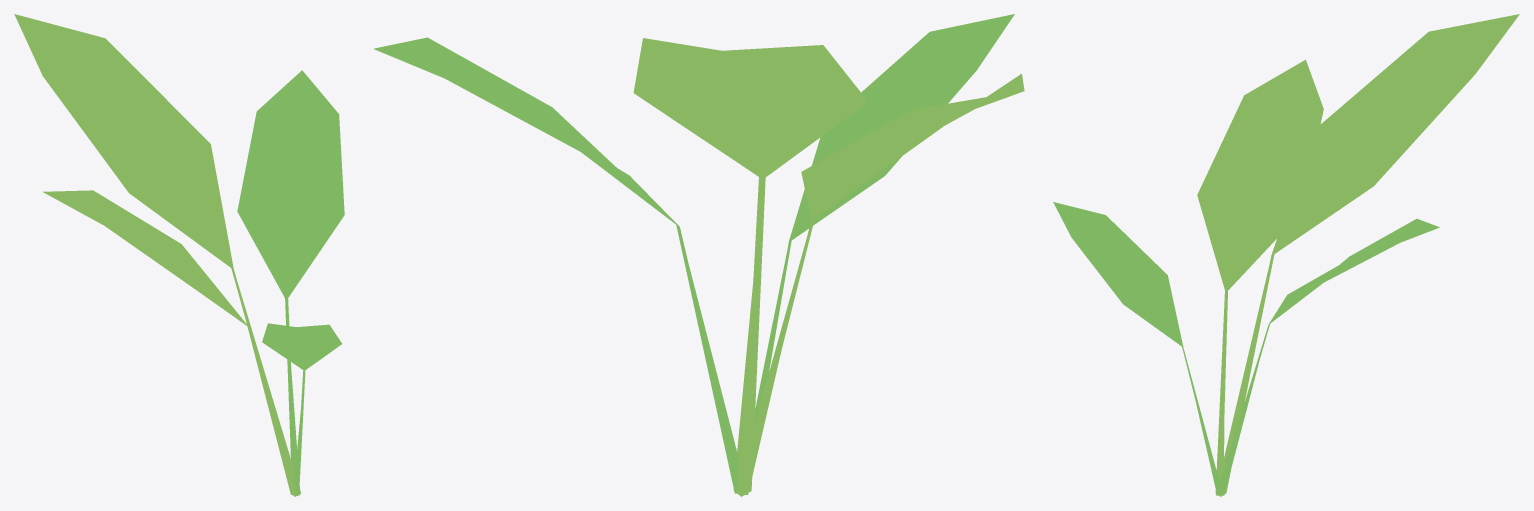
The model's file is Plant_j_TwoS_09.fbx.
3 renders of one model, left to right at view 1: azimuth 30°, elevation 25°; view 2: azimuth 150°, elevation 25°; view 3: azimuth 270°, elevation 25°, orthographic. The views are drawn at different scales.
Parts seen in each view (by area): view 1: Plant_j_TwoS_09; view 2: Plant_j_TwoS_09; view 3: Plant_j_TwoS_09.
Boxes of the visible parts, bbox=[...] form: Plant_j_TwoS_09: bbox=[14, 14, 344, 496]; Plant_j_TwoS_09: bbox=[374, 14, 1024, 496]; Plant_j_TwoS_09: bbox=[1053, 14, 1519, 496].
Bounding box in the file's own units: 0.2799 × 0.3311 × 0.3389.
